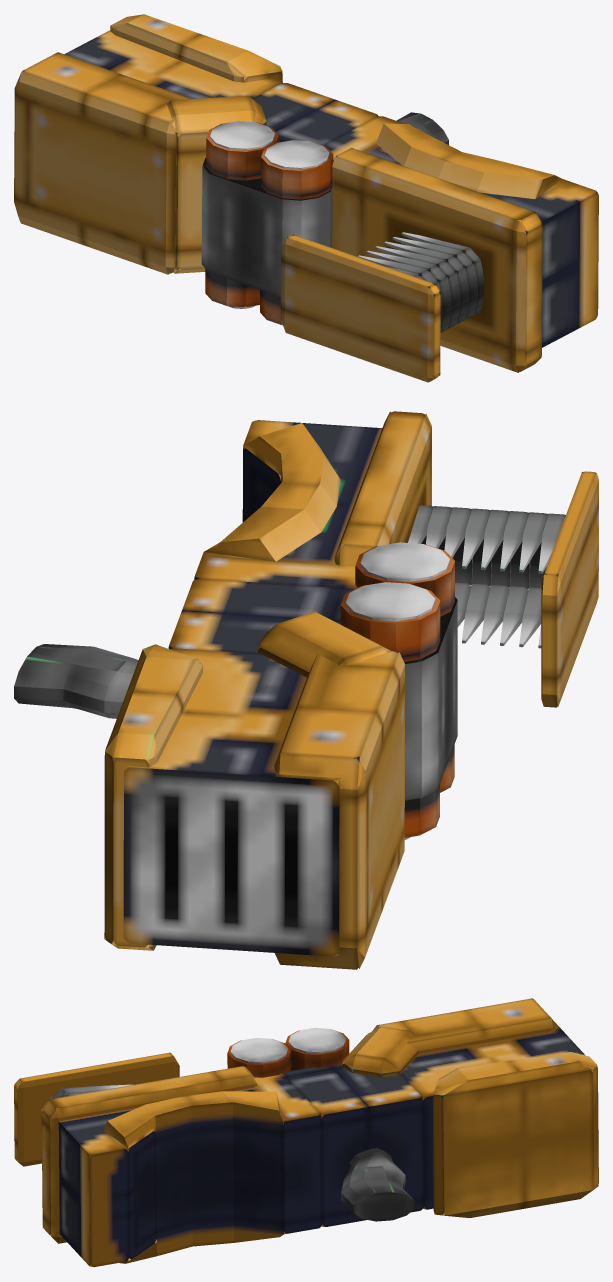
The model's file is title_screen_staple_gun.fbx.
3 renders of one model, top to bottom at view 1: azimuth 30°, elevation 25°; view 2: azimuth 150°, elevation 25°; view 3: azimuth 270°, elevation 25°, orthographic. The views are drawn at different scales.
Visible parts, largest first — view 1: cube; view 2: cube; view 3: cube.
Boxes of the visible parts, x1,y1,x2,y2 form: cube: (14,14,598,382); cube: (14,411,598,969); cube: (14,998,598,1266).
Bounding box in the file's own units: 120 × 58.04 × 206.
